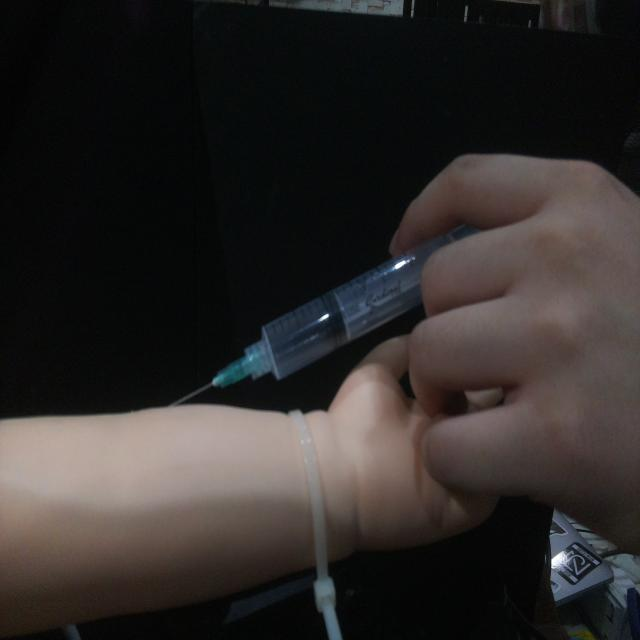17deg: (164, 219, 486, 410)
